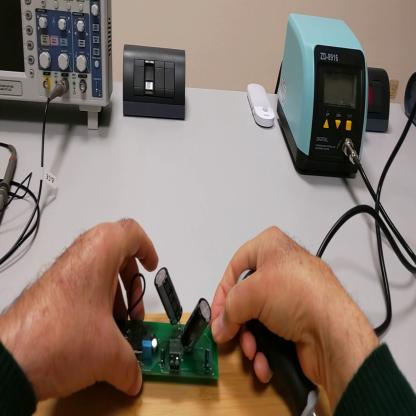hand: (2, 213, 160, 398), (208, 227, 353, 391)
high voltage board: (118, 269, 219, 381)
oscilloscope: (1, 1, 113, 133)
oscilloscope probe tip: (3, 146, 19, 218)
screwdriver-: (240, 272, 322, 413)
socket: (366, 69, 395, 141), (404, 67, 416, 126)
welder station: (279, 16, 369, 185)
working area: (35, 311, 335, 416)
